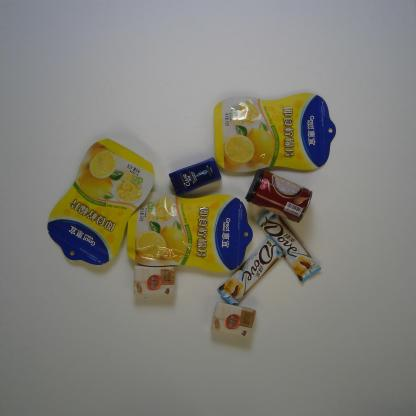Canned Food: (244, 166, 315, 224)
Chocolate: (217, 232, 288, 307), (256, 206, 322, 286)
Dried Fruit: (46, 136, 156, 267), (123, 188, 254, 274), (211, 89, 339, 174)
Personal Hygiene: (167, 157, 224, 194)
Tissue: (207, 302, 258, 342), (130, 263, 178, 299)
